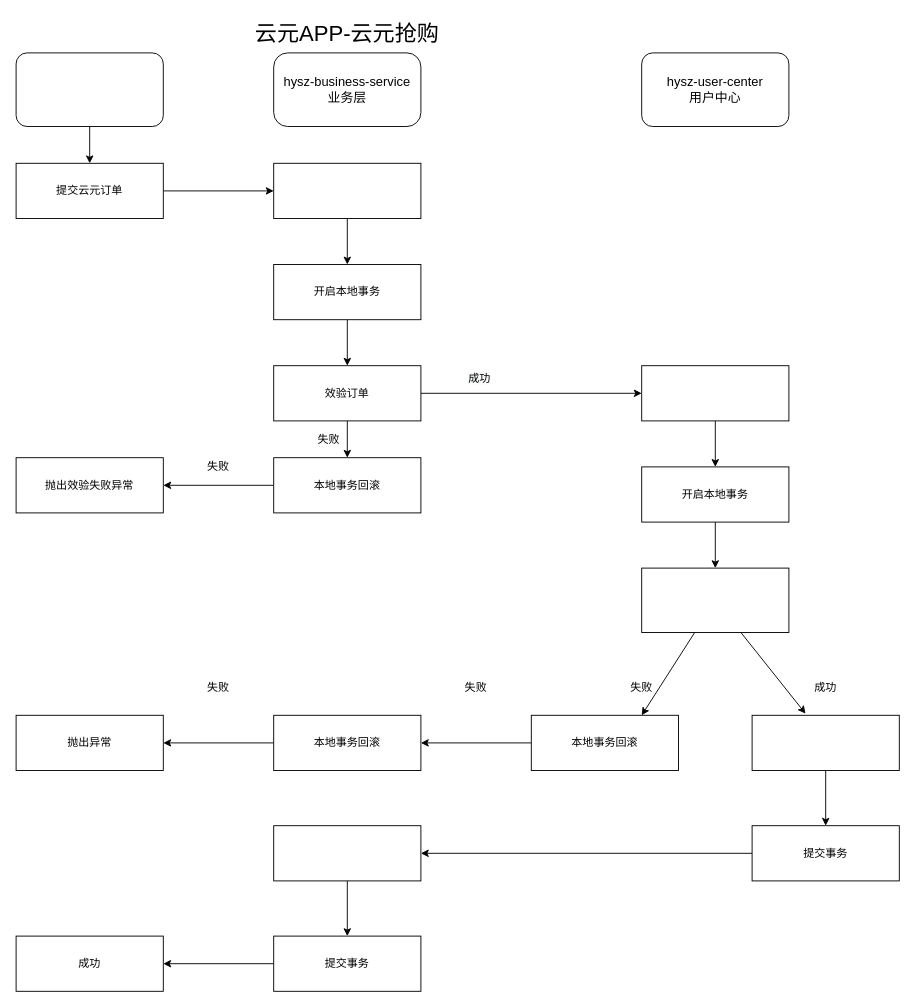
This 915x1007 diagram has some shape labels left out. Here are the shapes that lost their labels. From the top down, the box of each, then its label:
(15, 52, 163, 126): hysz-yunyuan-app-api 云元APP
(273, 162, 421, 218): 获取分布式事务锁 userId
(641, 365, 789, 421): 获取分布式事务锁
(641, 567, 789, 632): 增加用户云元 扣减用户增值余额 扣减平台云元资产余额
(751, 714, 899, 770): 执行更新修改操作
(273, 825, 421, 881): 执行剩下的业务
